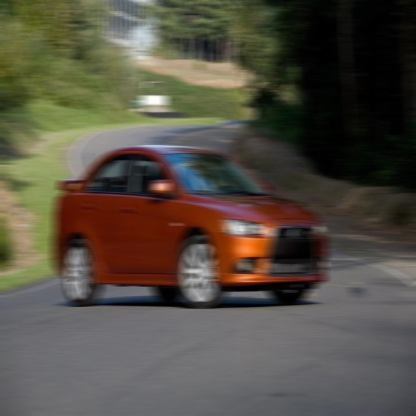Vehicle: (51, 143, 329, 310)
